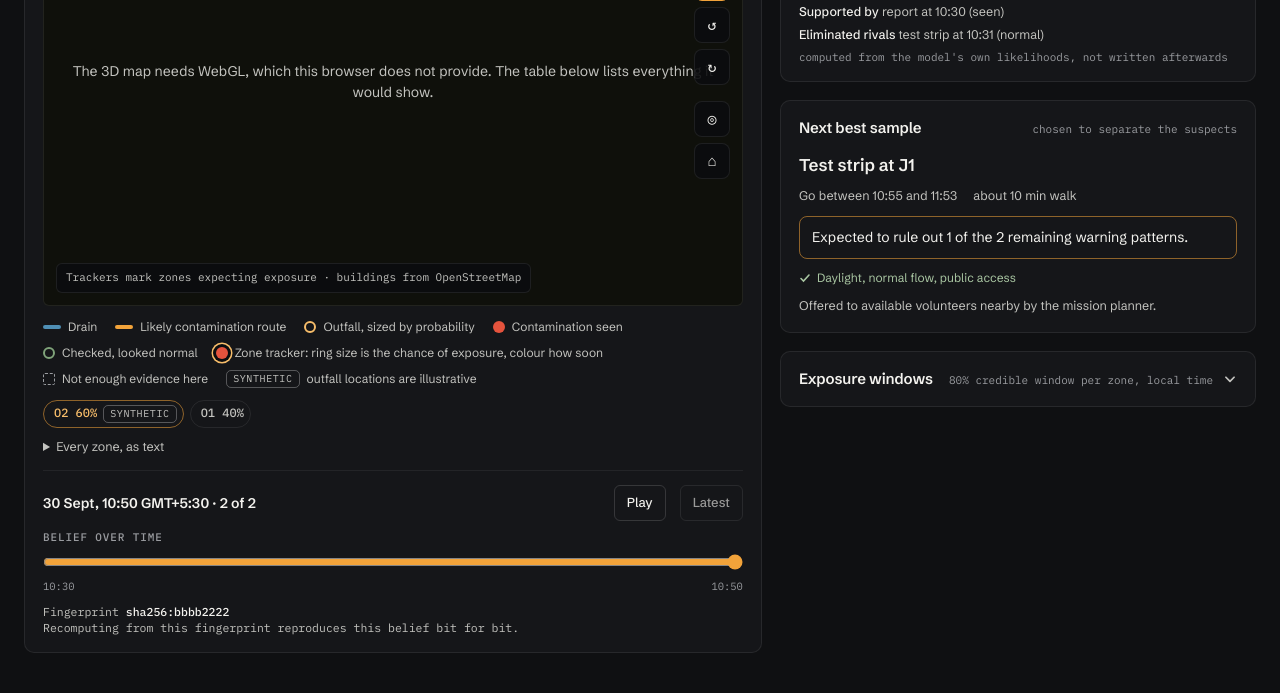
Test case: Console and belief replay (FR-36, FR-37) › shows the belief as of the slider position, not the latest
(page scrolled)
Set the slider to "0" at (51, 562), box 43,554 -> 743,570
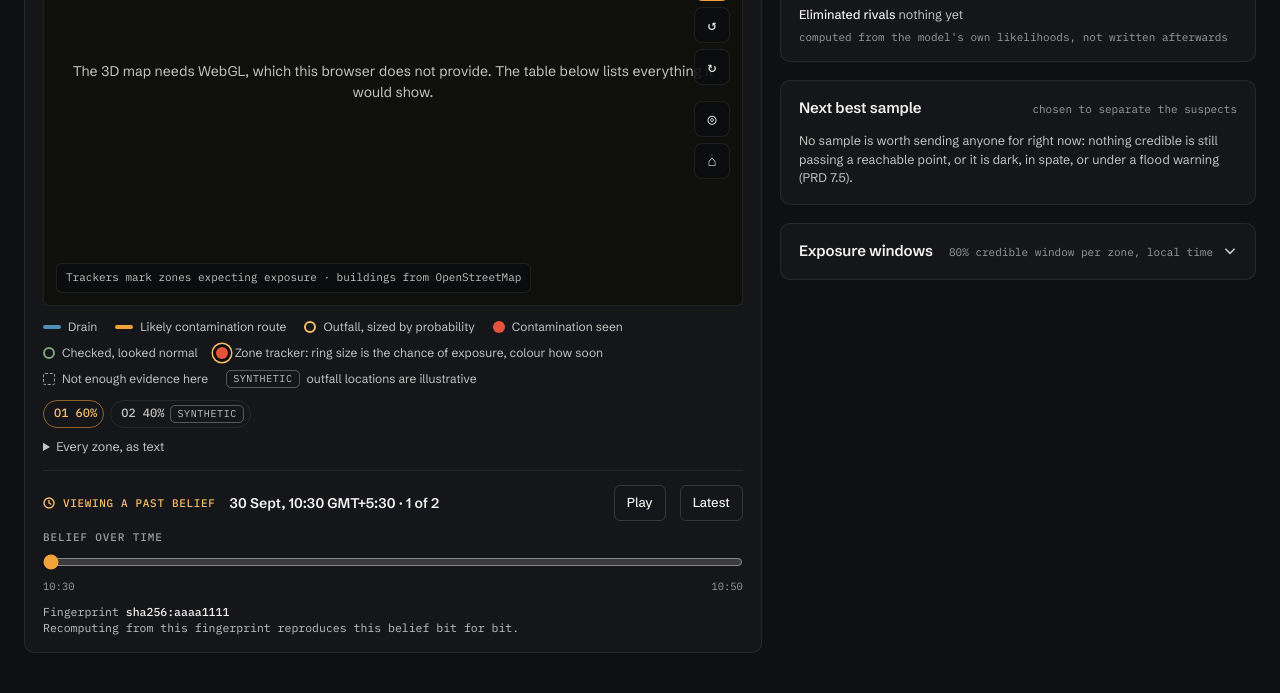
Now the text "Viewing a past belief" is shown, box 43,497 -> 216,510
Now the text "sha256:aaaa1111" is shown, box 126,604 -> 229,619
